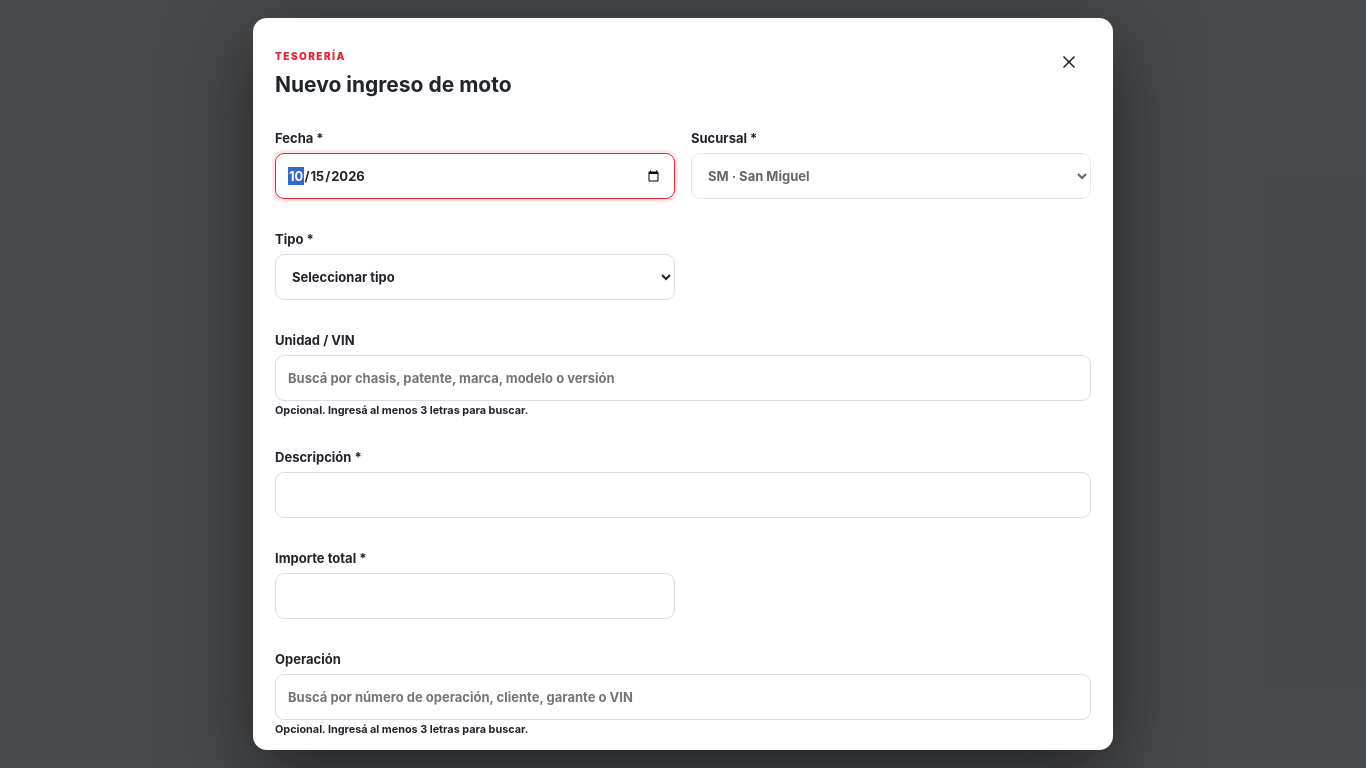
Test: Pago de la moto (venta) desde Ingresos › bloquea una operación saldada o cancelada
Select "Pago de la moto (venta)" in the dropdown labelled "Tipo *": (475, 277) [275, 254, 675, 300]
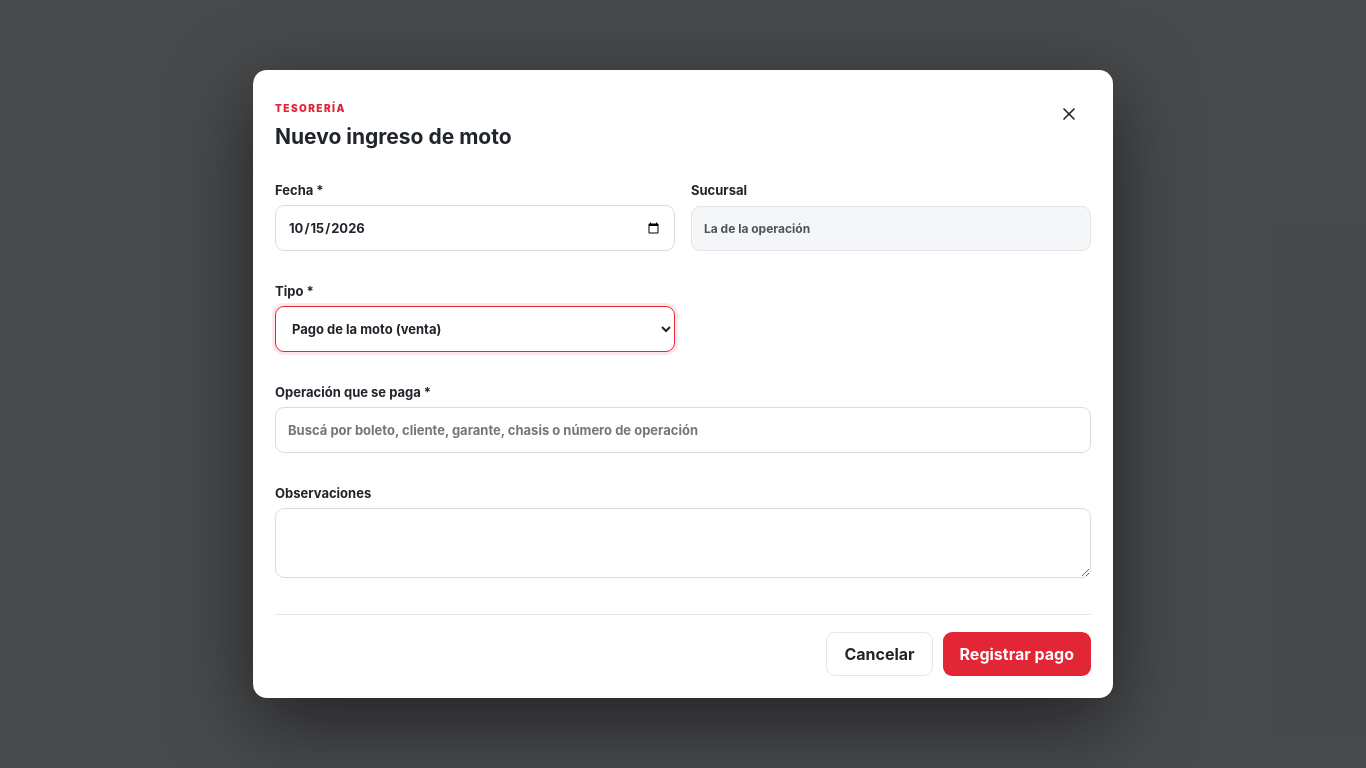
In the field labelled "Operación que se paga *": (683, 430) [275, 407, 1091, 453], type "SM-0421"
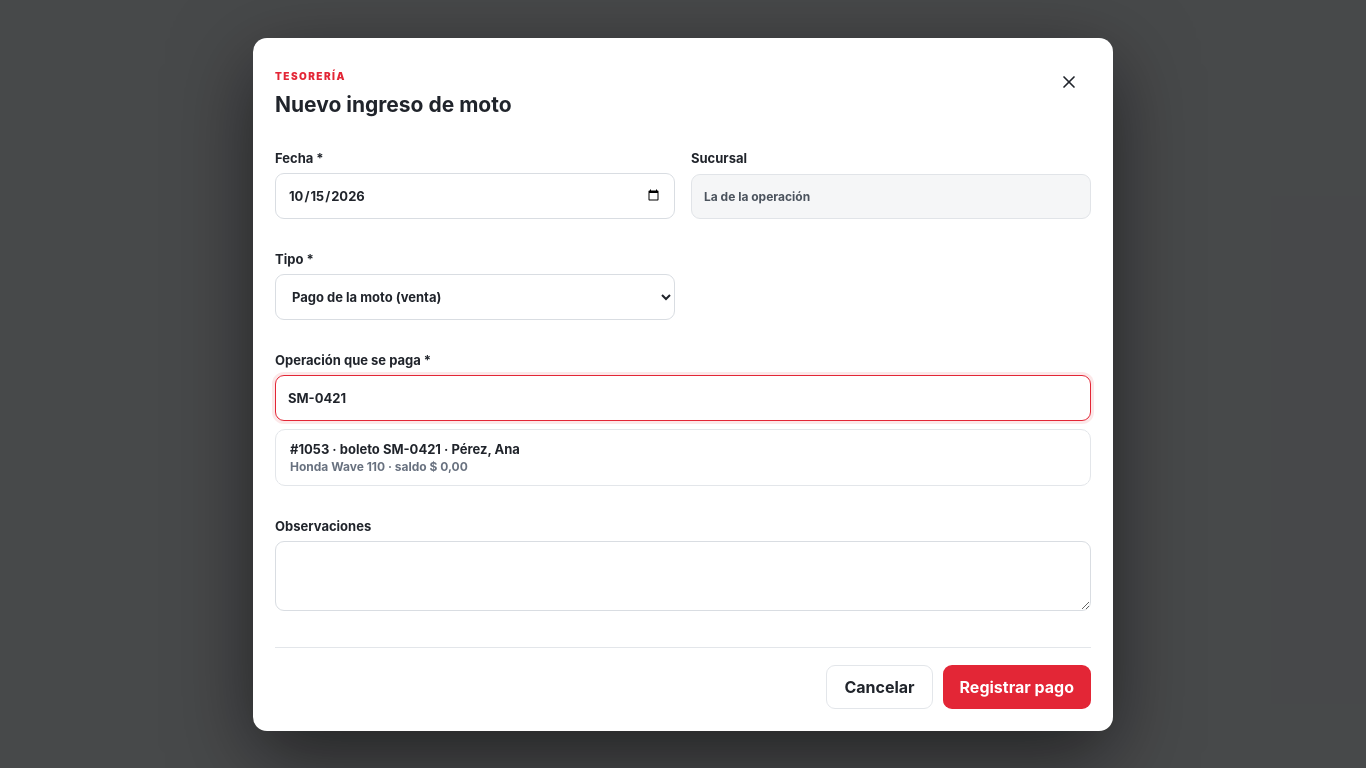
Click the option "1053": (405, 448) [278, 432, 1088, 482]
(page scrolled)
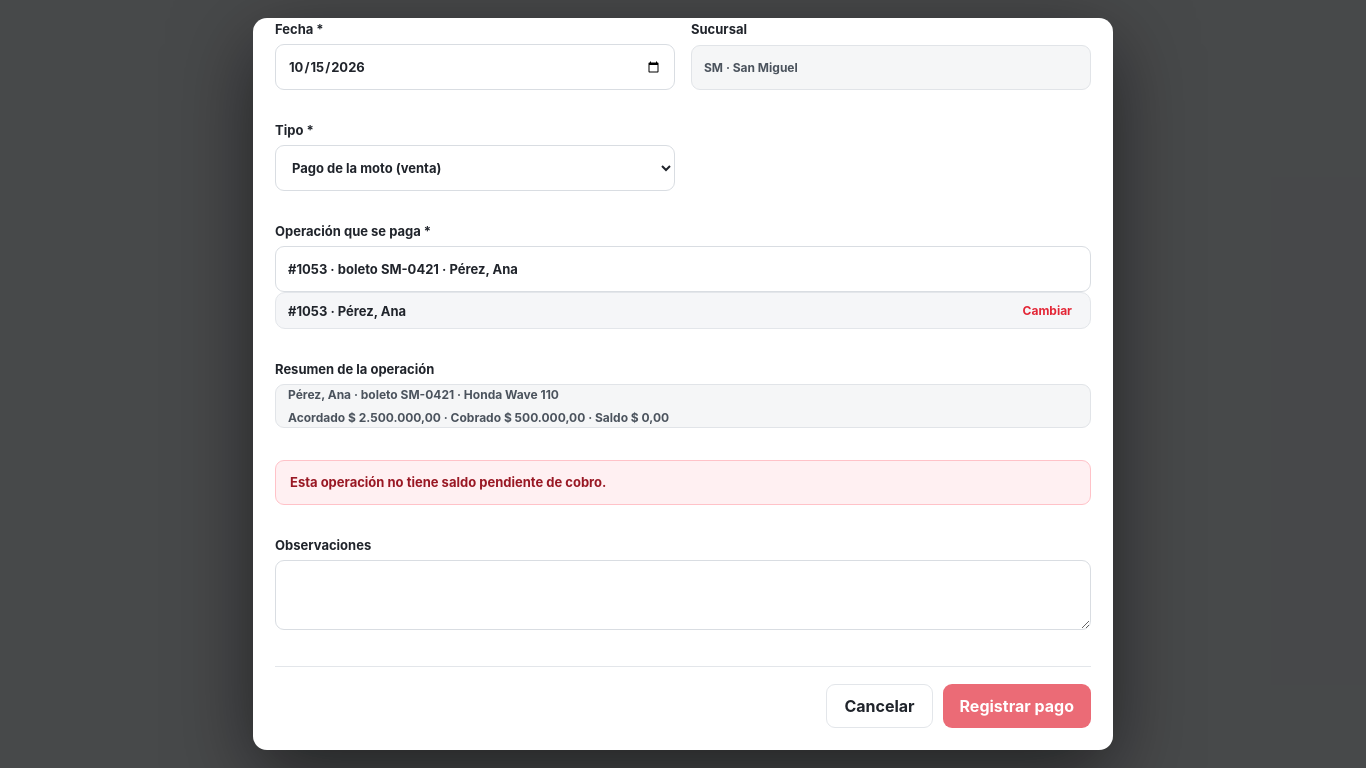
Now the text "Esta operación no tiene saldo pendiente de cobro." is shown, box [275, 460, 1091, 505]
Now the button "Registrar pago" is disabled, box [942, 684, 1091, 728]
